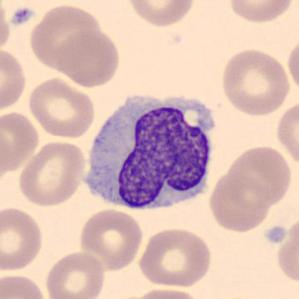Lymphocyte: (79, 87, 219, 218)
Monocyte: (79, 87, 218, 218)
Platelets: (269, 219, 297, 267), (264, 223, 288, 245), (9, 6, 34, 26)
RBC: (27, 1, 103, 72), (218, 46, 292, 117), (16, 139, 88, 208), (136, 226, 214, 289), (225, 143, 294, 209), (77, 206, 145, 272), (26, 76, 97, 139), (206, 170, 272, 234), (54, 28, 122, 89), (43, 248, 107, 299), (0, 204, 45, 274), (0, 109, 41, 176), (124, 0, 196, 29), (0, 46, 29, 114), (272, 216, 299, 285), (226, 0, 296, 25), (274, 98, 299, 167), (0, 272, 48, 299), (132, 286, 202, 299), (285, 36, 299, 94), (0, 0, 12, 56)
